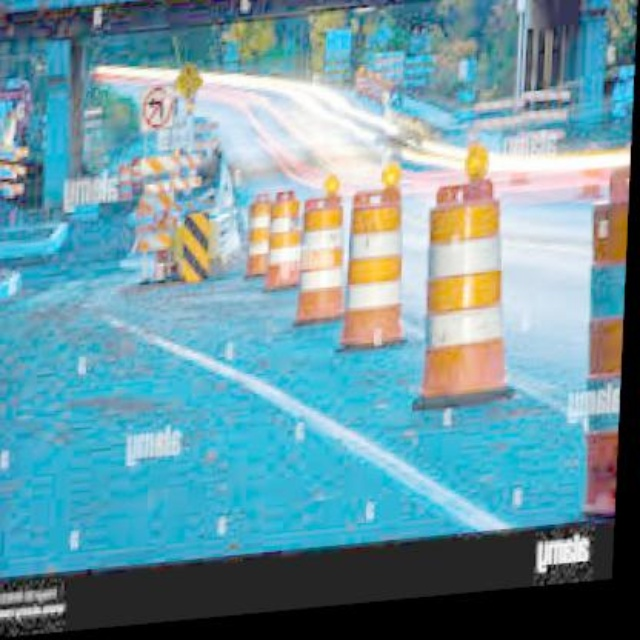obstacle: (419, 196, 524, 417), (341, 199, 407, 360), (300, 200, 349, 326)
